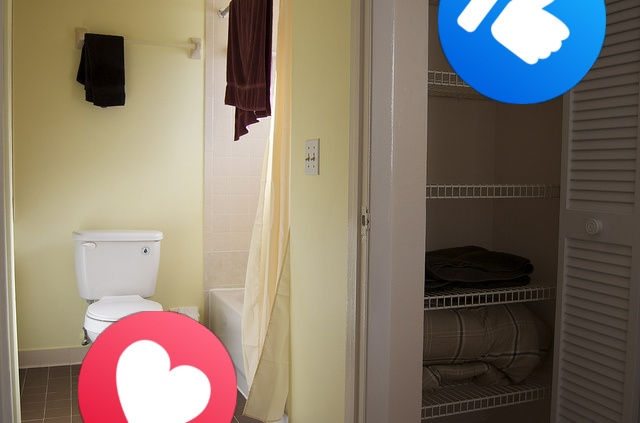like: (438, 0, 606, 104)
love: (78, 311, 237, 423)
